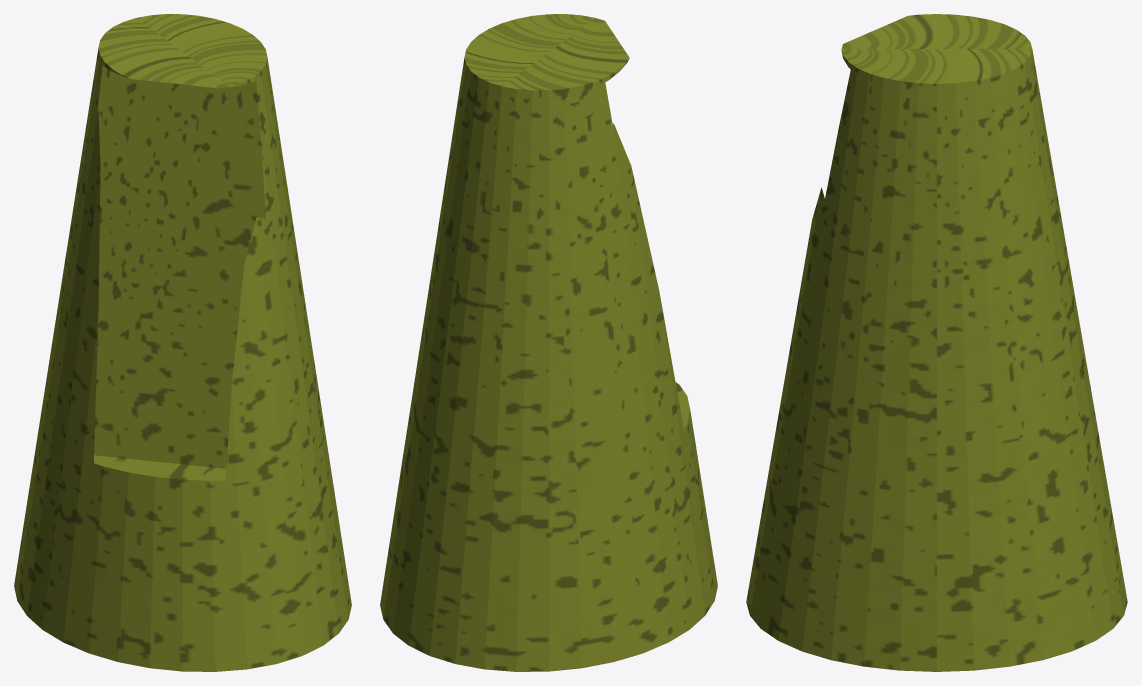
3 renders of one model, left to right at view 1: azimuth 30°, elevation 25°; view 2: azimuth 150°, elevation 25°; view 3: azimuth 270°, elevation 25°, orthographic.
Visible parts, largest first — view 1: geometry_0; view 2: geometry_0; view 3: geometry_0.
Boxes of the visible parts, x1,y1,x2,y2 form: geometry_0: (14,14,351,671); geometry_0: (380,14,717,671); geometry_0: (746,14,1127,671).
Bounding box in the file's own units: 0.8745 × 1.61 × 1.01.
Materials: 1 (1 with a texture image).
